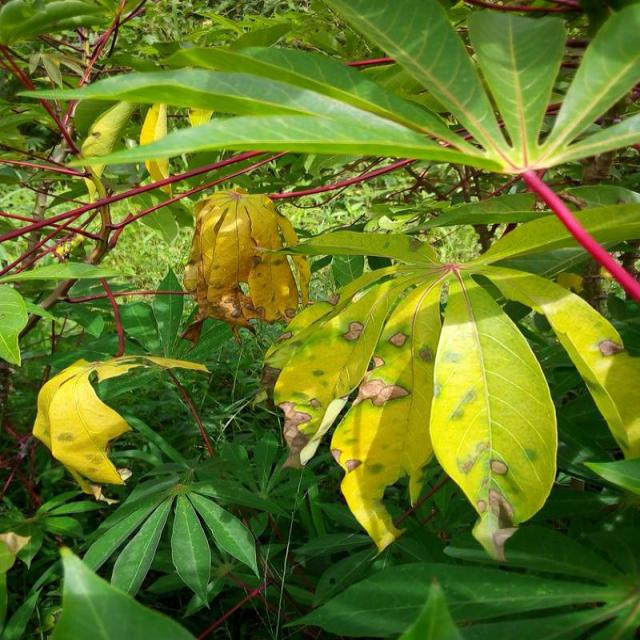cassava leaf: (429, 272, 559, 561), (33, 352, 211, 494), (183, 186, 312, 339)
